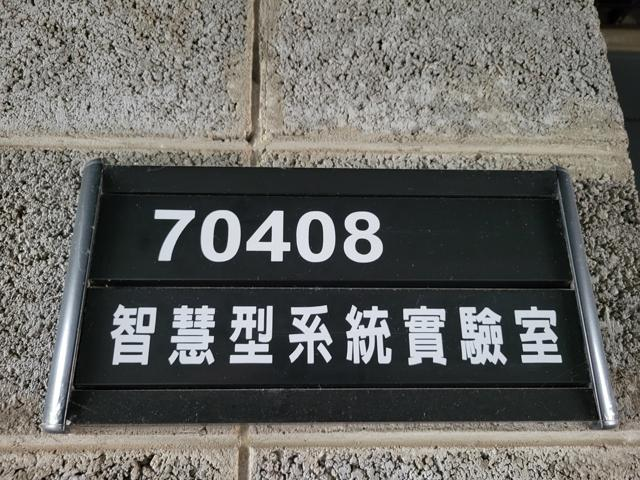doorplate: (29, 153, 628, 438)
